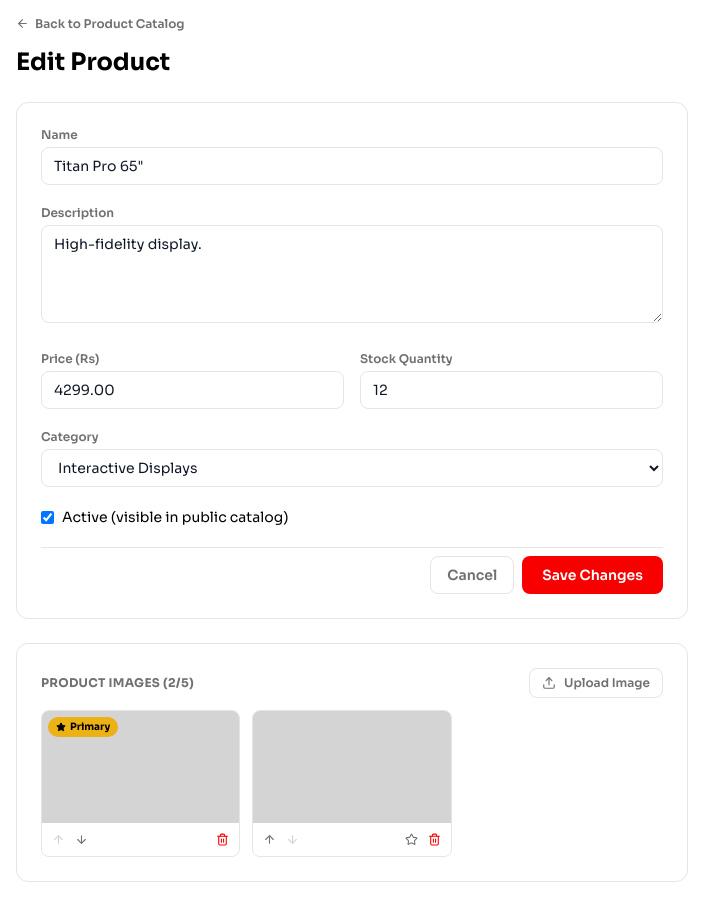
Test: Admin ProductForm › deletes an image from the gallery
The width and height of the screenshot is (705, 899).
Check: the heading "Product Images (2/5)" is shown, box x1=41 y1=675 x2=194 y2=691
Click the button titled "Delete" below "Primary": click(223, 840) x1=212 y1=829 x2=233 y2=850
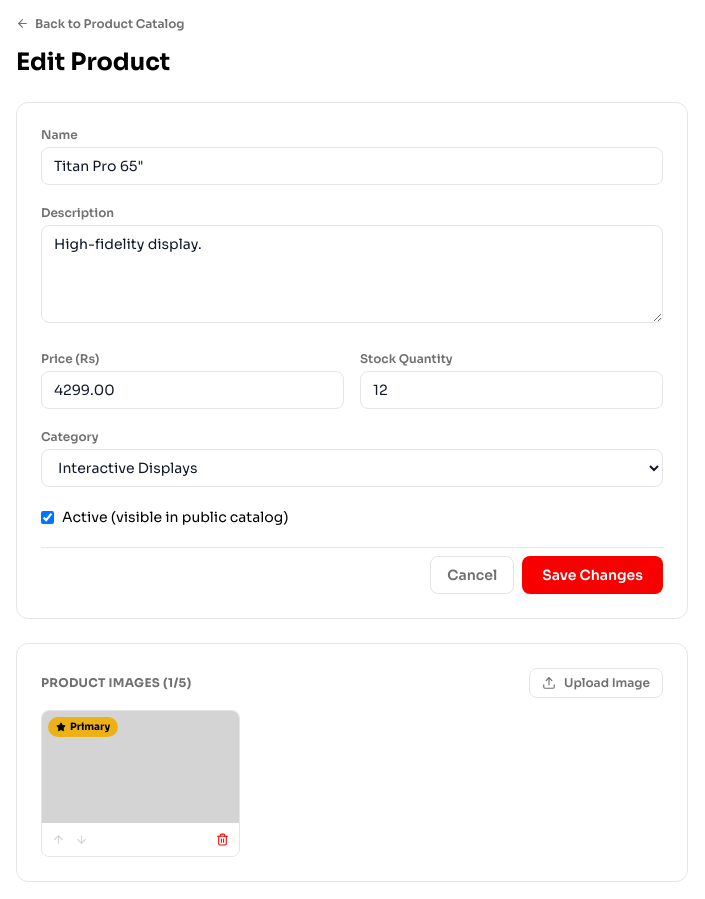
Check: the heading "Product Images (1/5)" is shown, box x1=41 y1=675 x2=192 y2=691
